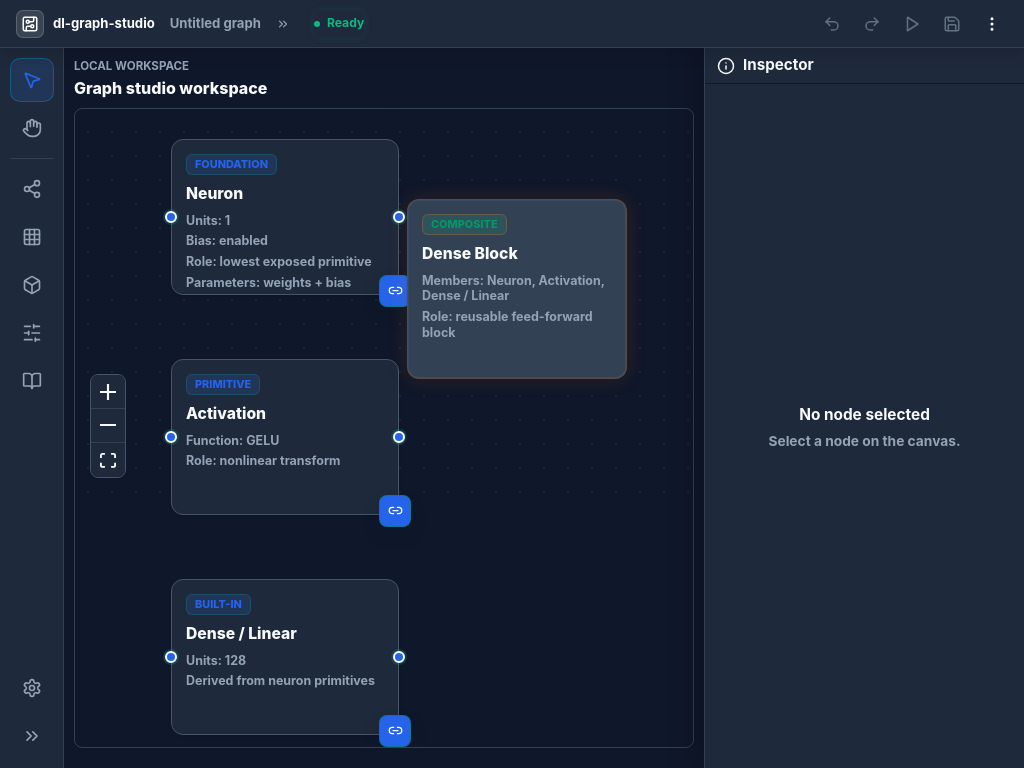
Test: App shell › updates selected node parameters and keeps values associated with each node
(page scrolled)
Click the button with aria-label "dense / linear primitive node" at point(285, 657), box left=171, top=579, right=399, bottom=735
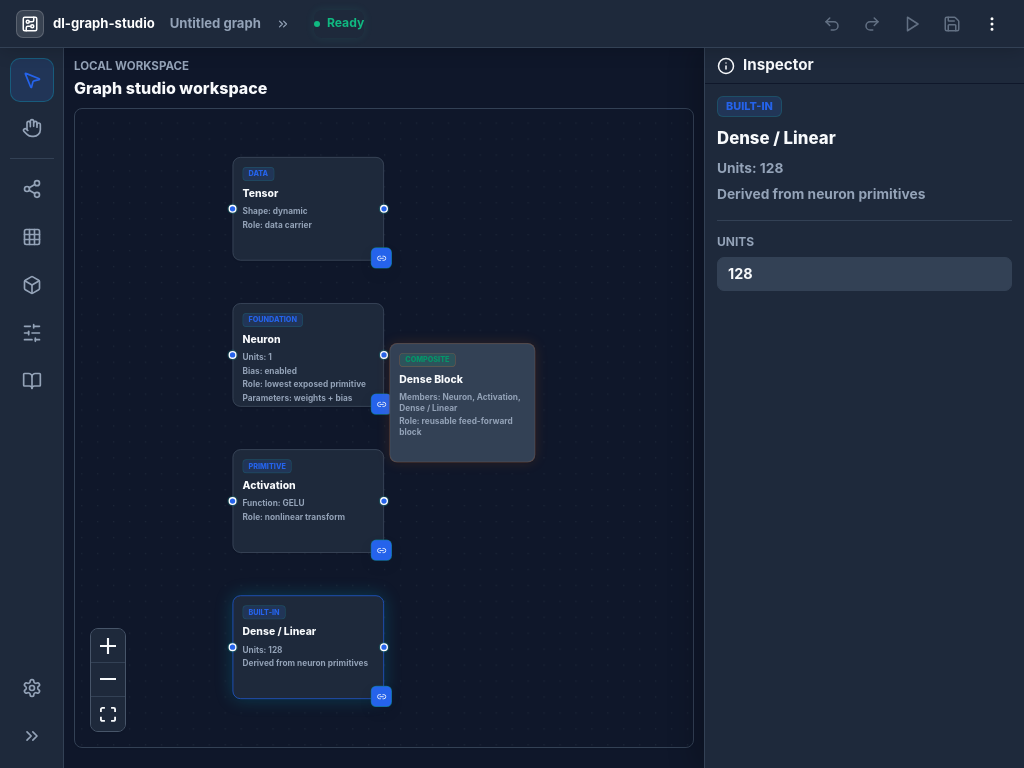
Replace the text in the number field labelled "Units" with "256" at point(864, 274), box left=717, top=257, right=1012, bottom=291
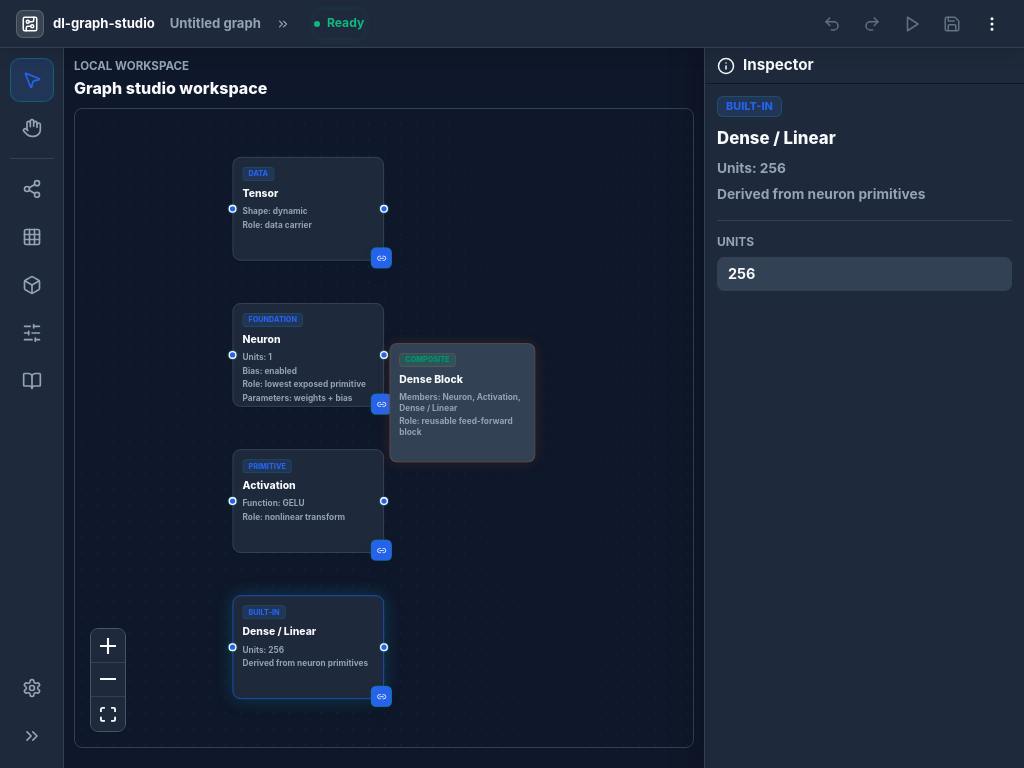
expect the list item "Units: 256" below "Inspector" is shown: met, box left=717, top=160, right=786, bottom=176
expect the 2nd list item "Units: 256" is shown: met, box left=242, top=644, right=284, bottom=654
Click the button with aria-label "activation primitive node" at point(308, 501), box left=233, top=449, right=384, bottom=552
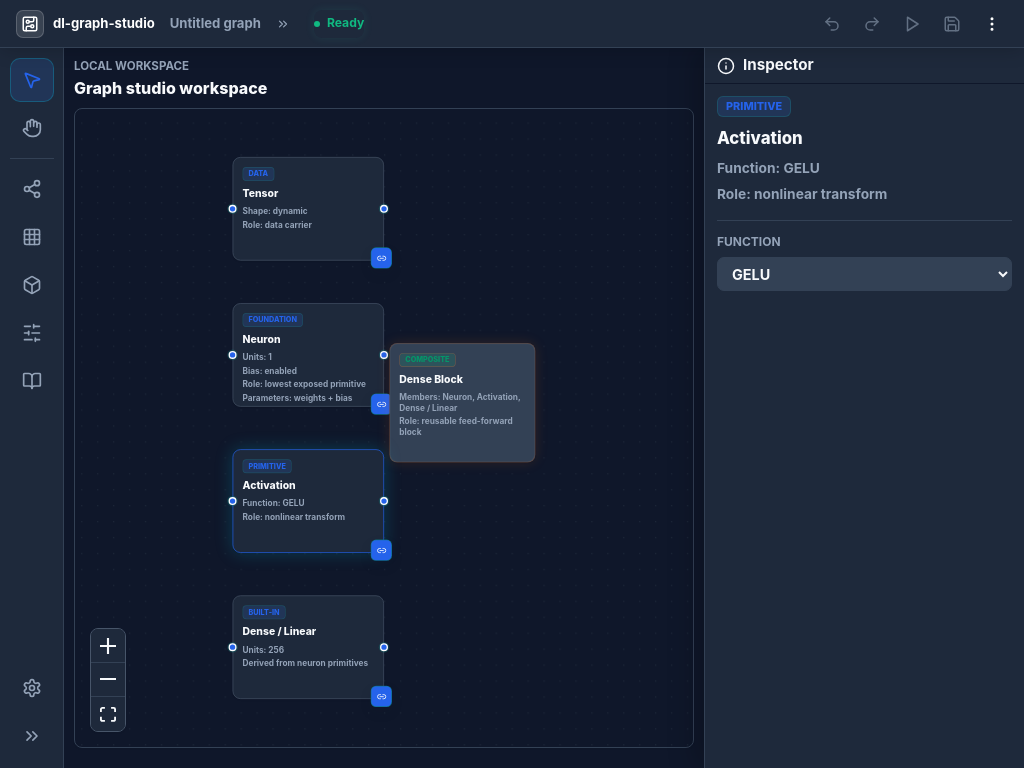
Select "ReLU" in the dropdown labelled "Function" at point(864, 274), box left=717, top=257, right=1012, bottom=291
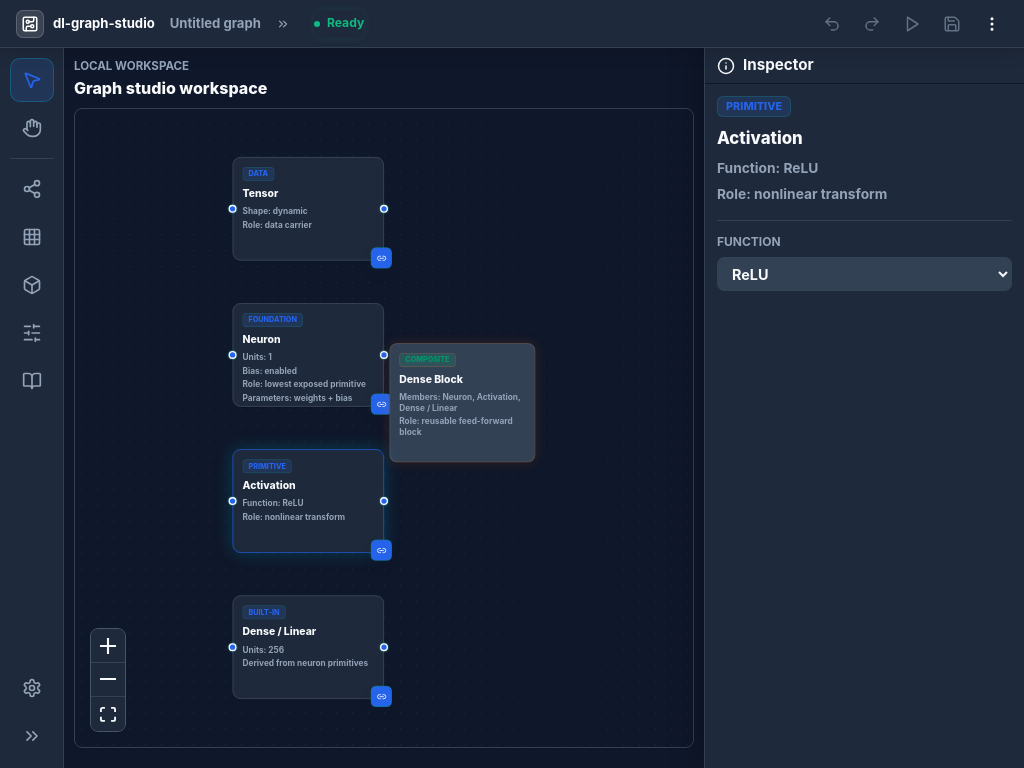
expect the list item "Function: ReLU" below "Inspector" is shown: met, box left=717, top=160, right=818, bottom=176
expect the 2nd list item "Function: ReLU" is shown: met, box left=242, top=498, right=304, bottom=508
Click the button with aria-label "dense / linear primitive node" at point(308, 647), box left=233, top=595, right=384, bottom=699
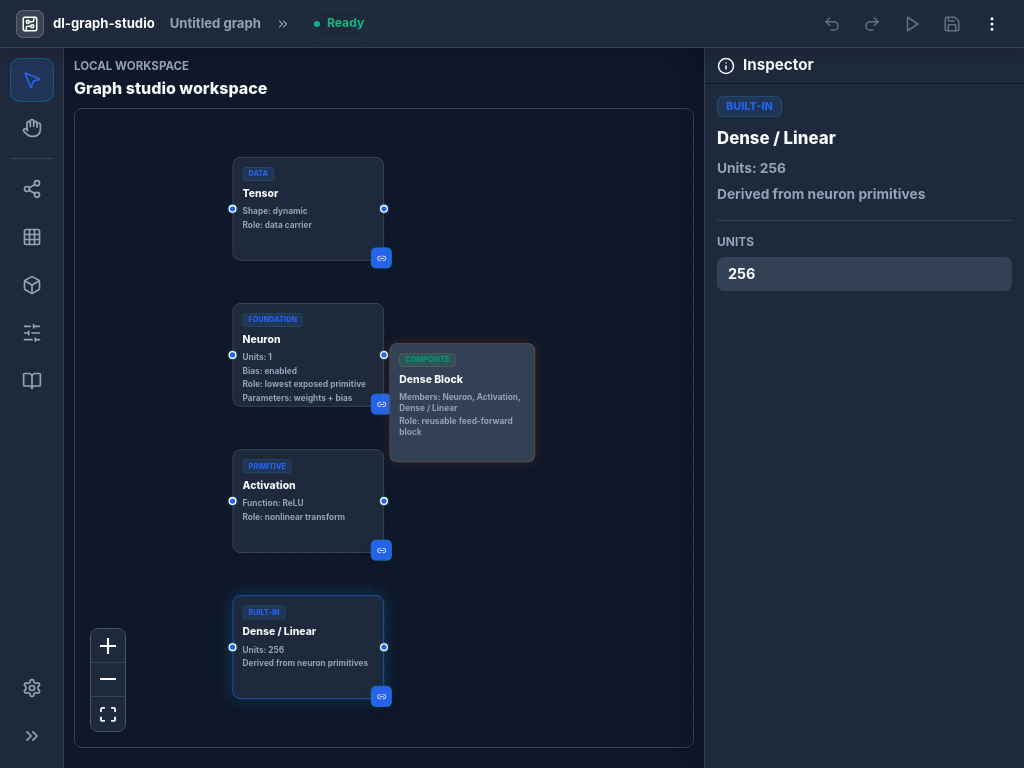
expect the number field labelled "Units" holds "256": met, box left=717, top=257, right=1012, bottom=291
